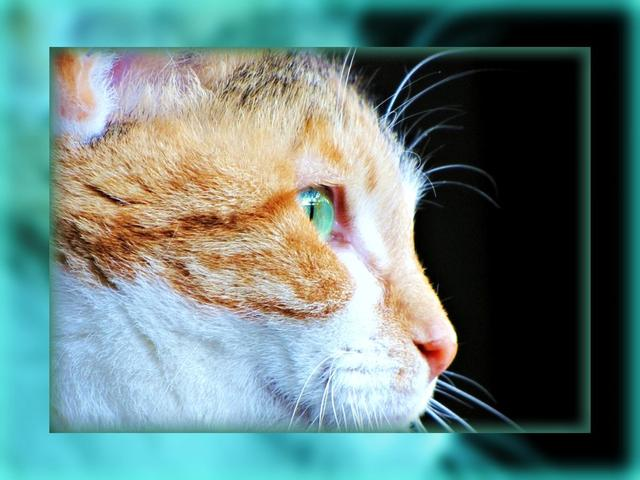cat: (54, 48, 535, 421)
